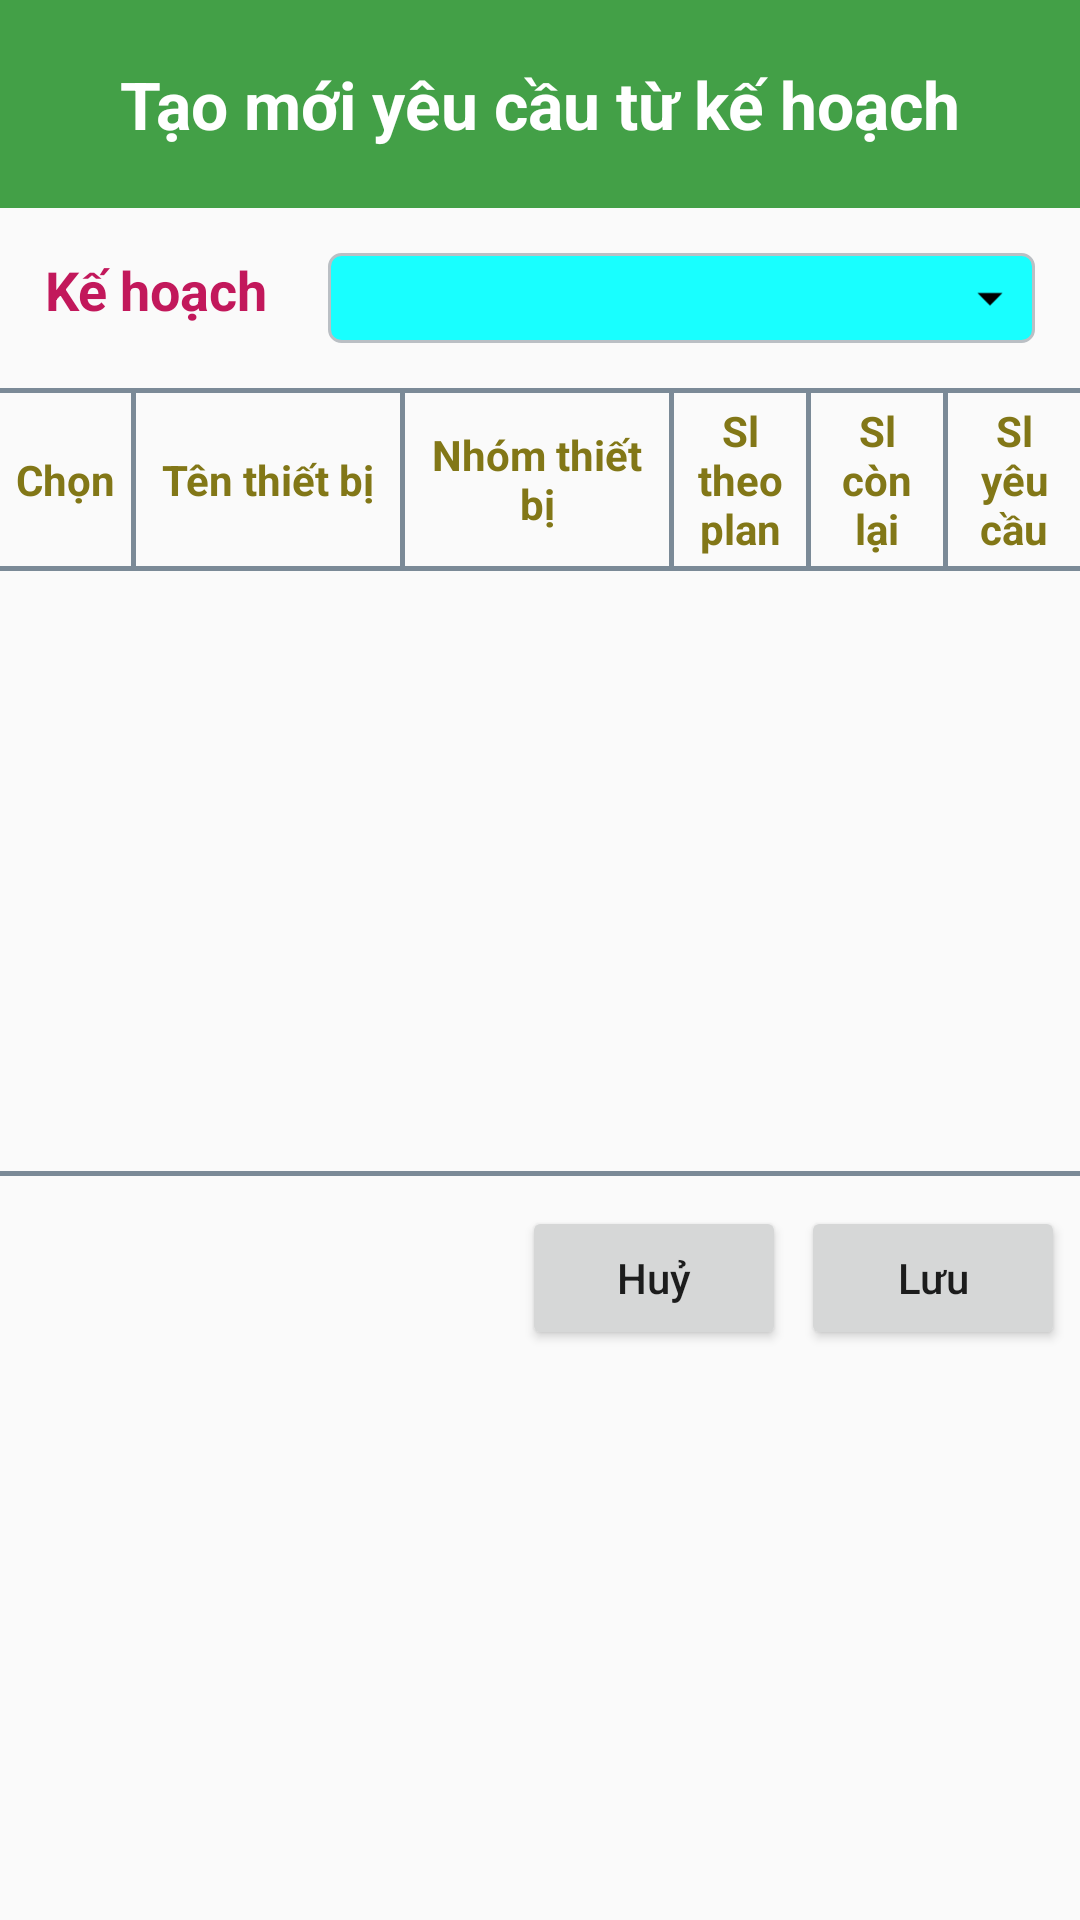

Locate icon controls on the screen. Image size 1080px×1920px, boxes as (x1, y1, x2, y2).
drop down: (978, 292, 1002, 306)
